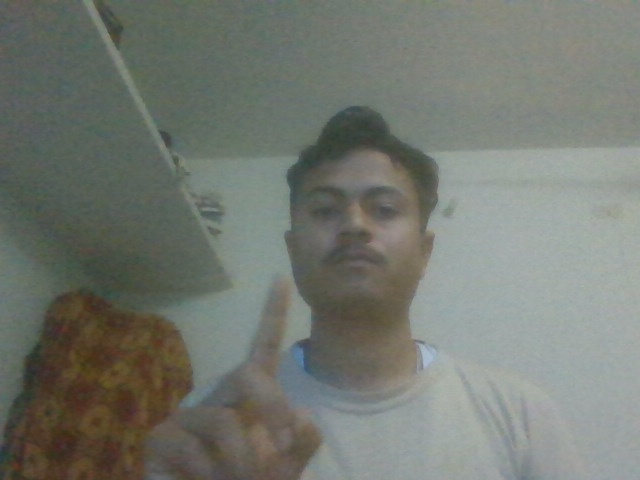No: (169, 277, 336, 479)
